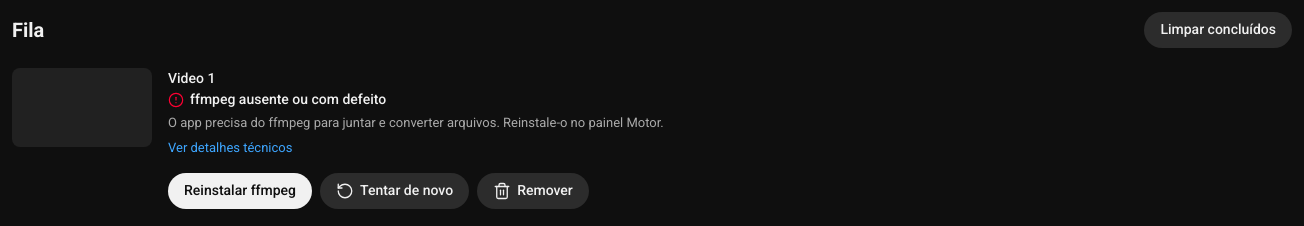
Test case: error job › reinstall_ffmpeg installs ffmpeg and then retries
What coordinates should you click on to do the following:
click the button "Reinstalar ffmpeg"
I would click on:
 (240, 191)
Its box is [168,173,312,209].
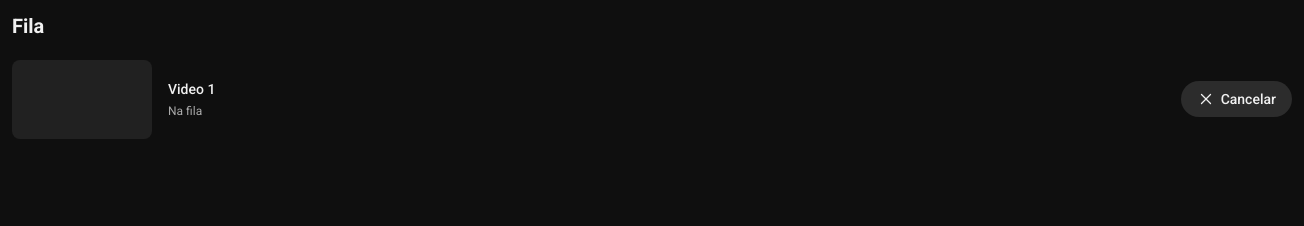
Expected: the text "Na fila" is shown, [168,103,202,120]
